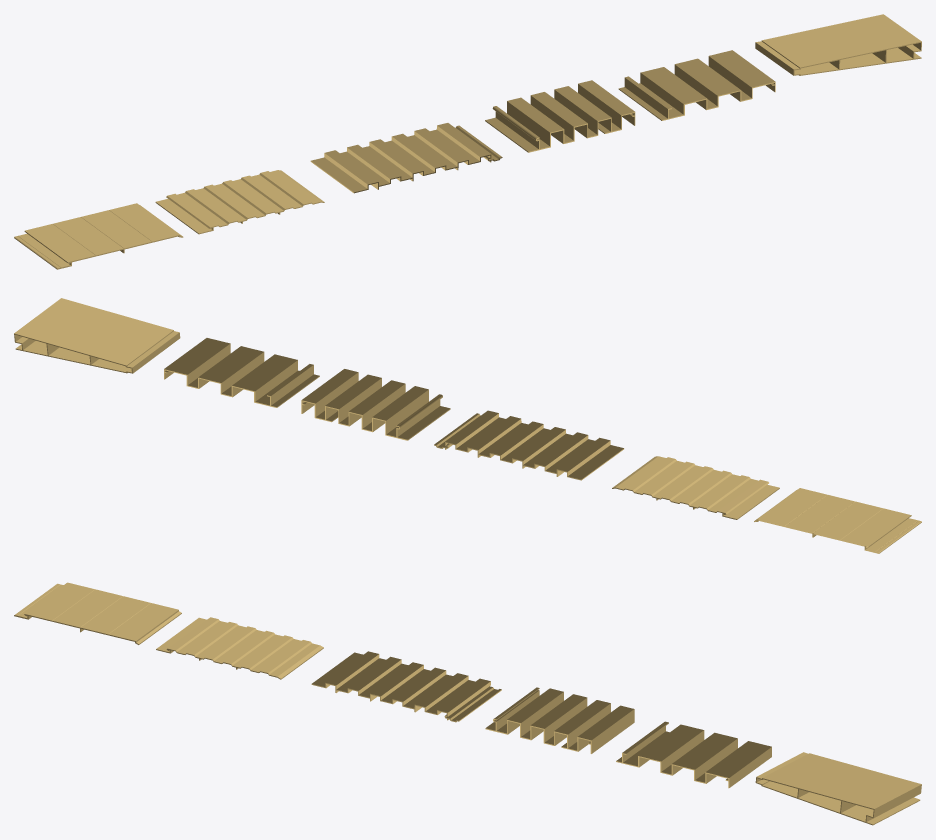
File: cf1d9565-db5d-444d-b84e-0b00206eaebb.glb
3 renders of one model, top to bottom at view 1: azimuth 30°, elevation 25°; view 2: azimuth 150°, elevation 25°; view 3: azimuth 330°, elevation 25°, orthographic.
Visible parts, largest first — view 1: group_4, PERFIS_lambril_FINAL.dwg_2, group_2, group_3, group_0, group_1; view 2: PERFIS_lambril_FINAL.dwg_2, group_4, group_2, group_3, group_0, group_1; view 3: group_4, PERFIS_lambril_FINAL.dwg_2, group_2, group_3, group_1, group_0.
Part boxes in pixels (left/top/right/bottom): group_4: left=310, top=123, right=502, bottom=193; PERFIS_lambril_FINAL.dwg_2: left=755, top=14, right=921, bottom=75; group_2: left=485, top=80, right=635, bottom=152; group_3: left=618, top=50, right=775, bottom=120; group_0: left=14, top=203, right=183, bottom=269; group_1: left=155, top=170, right=324, bottom=234; PERFIS_lambril_FINAL.dwg_2: left=14, top=298, right=180, bottom=373; group_4: left=434, top=410, right=624, bottom=480; group_2: left=301, top=369, right=450, bottom=440; group_3: left=164, top=338, right=319, bottom=407; group_0: left=754, top=488, right=921, bottom=553; group_1: left=612, top=456, right=779, bottom=519; group_4: left=311, top=651, right=501, bottom=722; PERFIS_lambril_FINAL.dwg_2: left=755, top=752, right=921, bottom=825; group_2: left=485, top=687, right=634, bottom=753; group_3: left=616, top=721, right=771, bottom=788; group_1: left=156, top=617, right=323, bottom=679; group_0: left=14, top=582, right=181, bottom=644.
Size of the model in its own units: 45.73 by 1.09 by 4.45.
